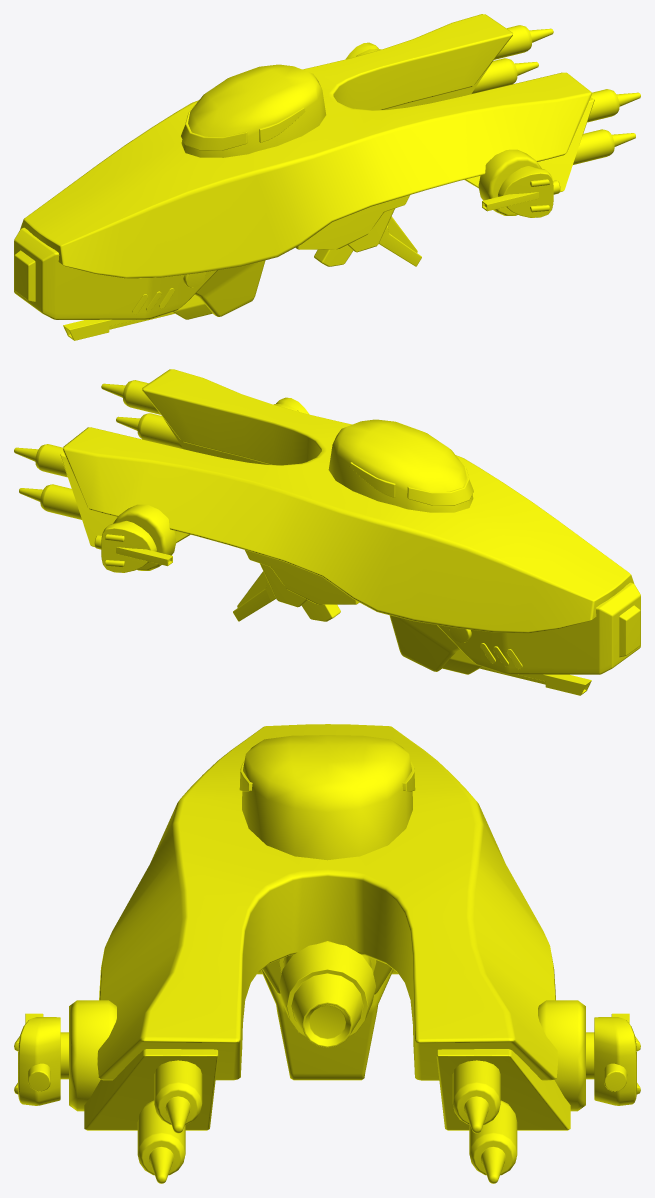
The model's file is frigate_02.gltf.
The picture shows the model from 3 angles, top to bottom: view 1: azimuth 30°, elevation 25°; view 2: azimuth 150°, elevation 25°; view 3: azimuth 270°, elevation 25°; orthographic projection. The views are drawn at different scales.
Parts seen in each view (by area): view 1: Frigate_2; view 2: Frigate_2; view 3: Frigate_2.
Boxes of the visible parts, x1,y1,x2,y2 form: Frigate_2: [14, 14, 640, 340]; Frigate_2: [14, 369, 640, 695]; Frigate_2: [14, 724, 640, 1183].
Size of the model in its own units: 39.38 by 14.02 by 21.76.
Materials: 1 (1 with a texture image).
